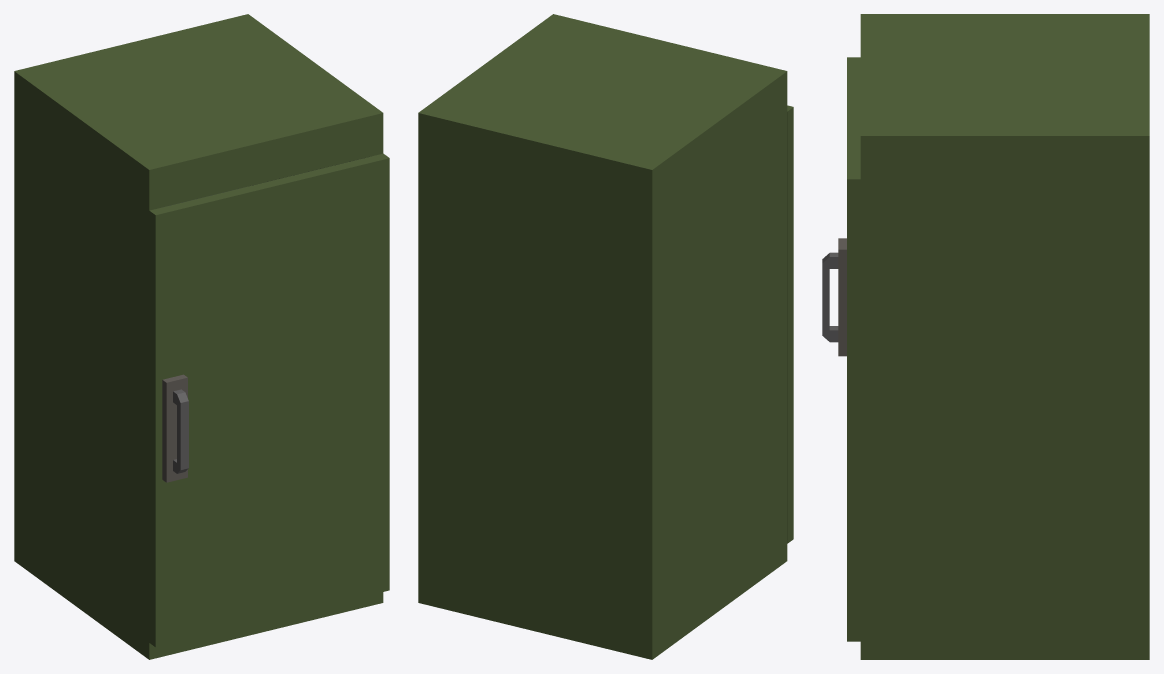
File: dryingcabinets_01_B.gltf
3 renders of one model, left to right at view 1: azimuth 30°, elevation 25°; view 2: azimuth 150°, elevation 25°; view 3: azimuth 270°, elevation 25°, orthographic. The views are drawn at different scales.
Visible parts, largest first — view 1: dryingcabinets_01_B, Doordryingcabinets_01_B; view 2: dryingcabinets_01_B, Doordryingcabinets_01_B; view 3: dryingcabinets_01_B, Doordryingcabinets_01_B.
Boxes of the visible parts, bbox=[...] form: dryingcabinets_01_B: bbox=[14, 14, 383, 659]; Doordryingcabinets_01_B: bbox=[149, 153, 389, 647]; dryingcabinets_01_B: bbox=[418, 14, 787, 659]; Doordryingcabinets_01_B: bbox=[787, 105, 793, 543]; dryingcabinets_01_B: bbox=[860, 14, 1149, 659]; Doordryingcabinets_01_B: bbox=[822, 57, 860, 641].
Size of the model in its own units: 1 by 2 by 1.13.
1 material, 1 textured.
